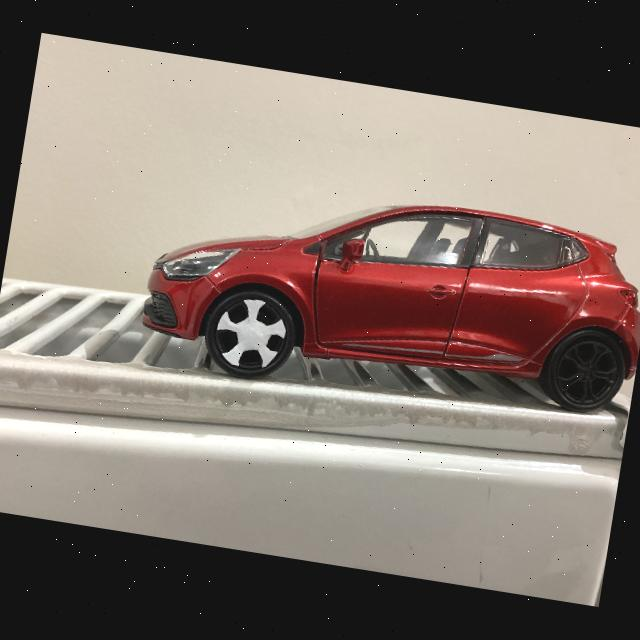Dogru_Jant: (552, 336, 622, 410)
Yanlis_Jant: (210, 294, 292, 375)
